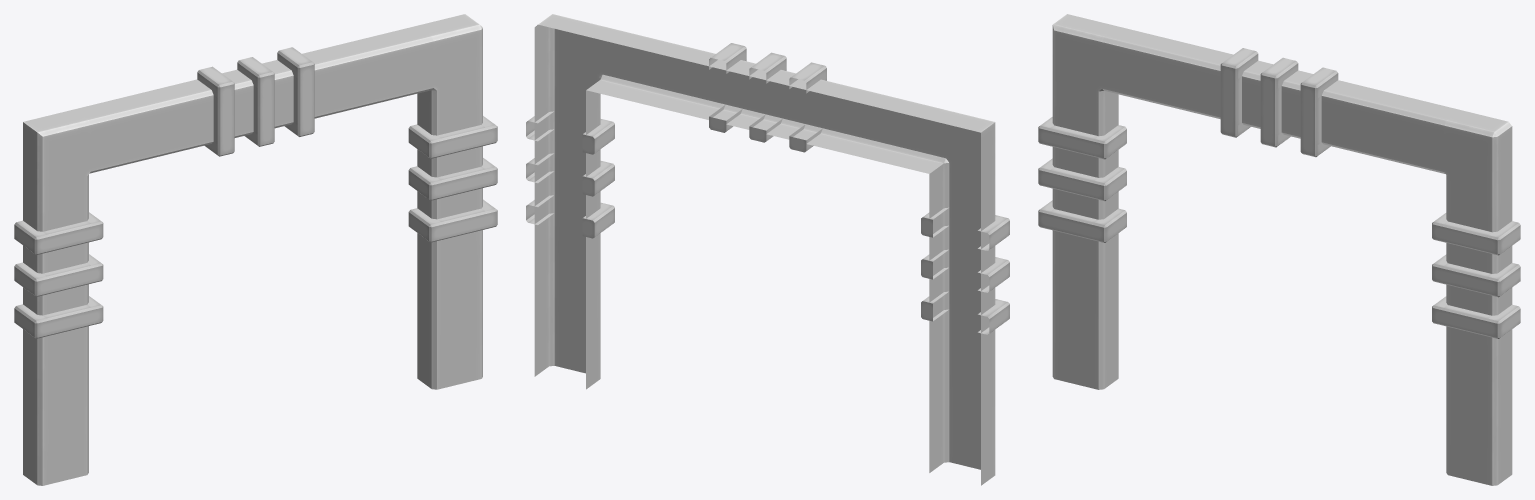
Rendered from DoorFrameLight05_1.FBX.
3 views of the same model, side by side, from view 1: azimuth 30°, elevation 25°; view 2: azimuth 150°, elevation 25°; view 3: azimuth 330°, elevation 25° (orthographic).
Visible parts, largest first — view 1: DoorFrameLight05; view 2: DoorFrameLight05; view 3: DoorFrameLight05.
Boxes of the visible parts, x1,y1,x2,y2 form: DoorFrameLight05: [14, 14, 497, 485]; DoorFrameLight05: [526, 14, 1009, 485]; DoorFrameLight05: [1038, 14, 1520, 485].
Size of the model in its own units: 405 by 302 by 32.5.
